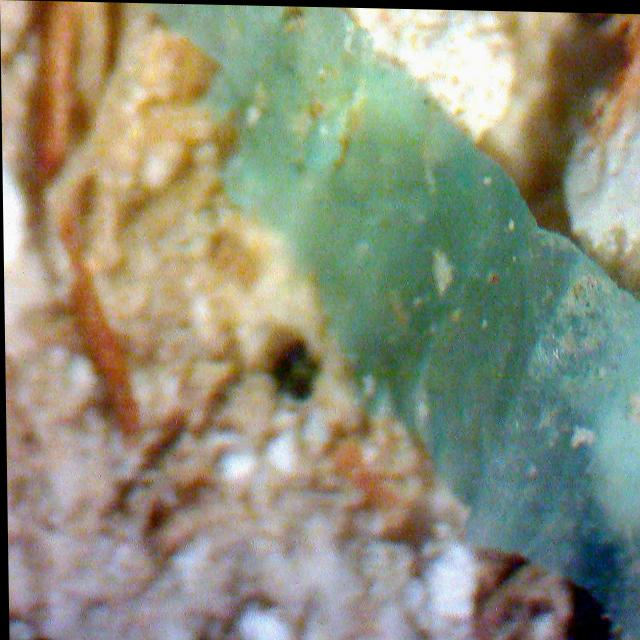microplastic: (152, 3, 640, 619)
